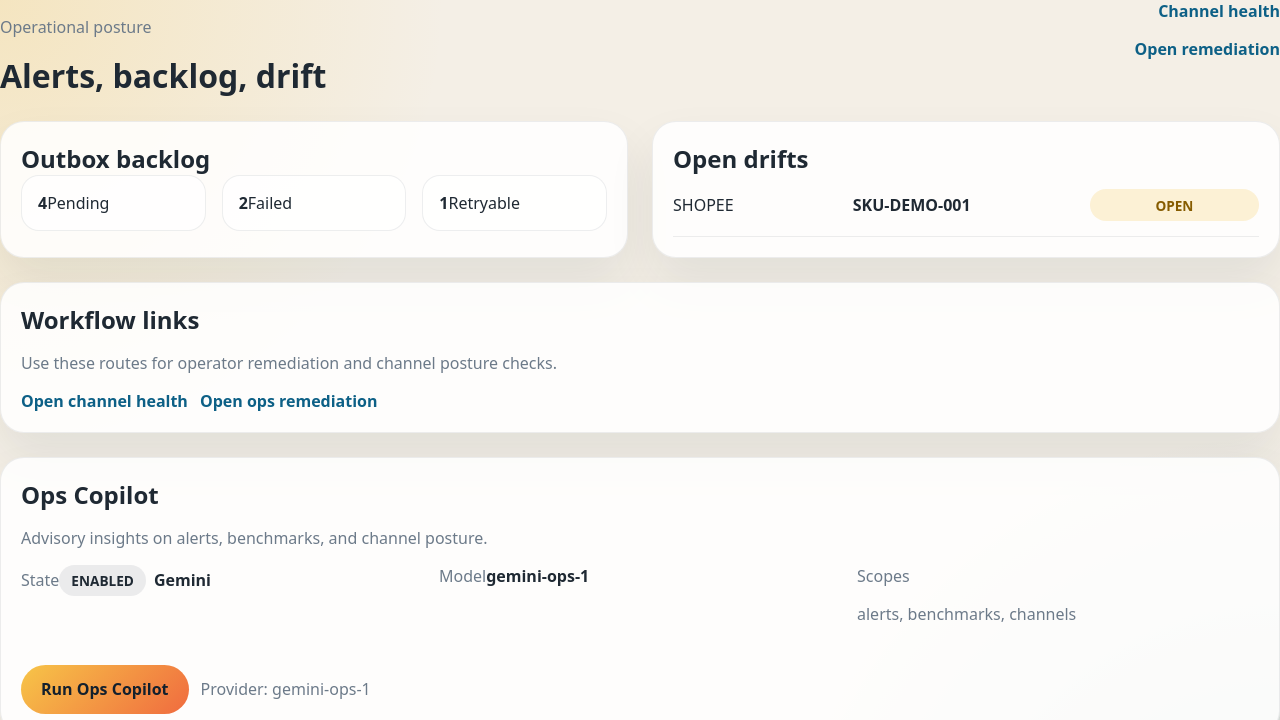
Test case: OpsPage › runs Ops Copilot analysis and renders findings
Check: the heading "Ops Copilot" is shown, box [21, 478, 159, 511]
Click the button "Run Ops Copilot".
click(105, 689)  # box [21, 665, 189, 714]
(page scrolled)
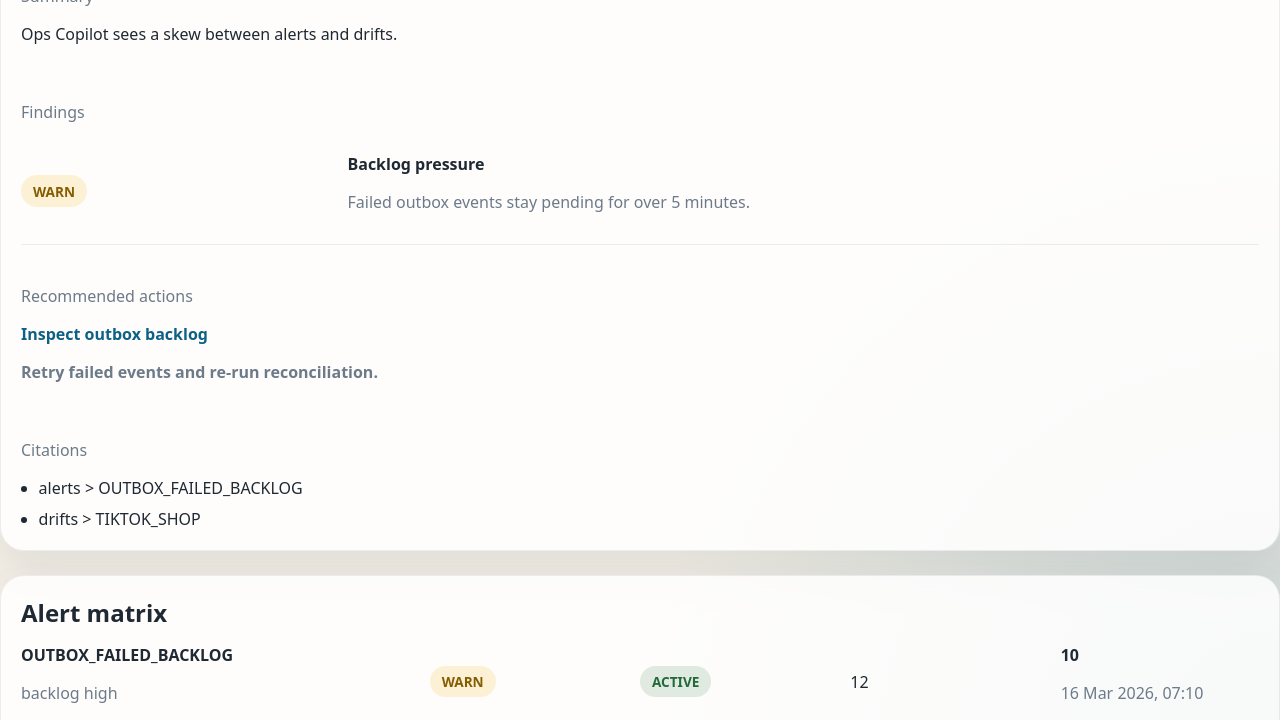
Check: the text "Ops Copilot sees a skew between alerts and drifts." is shown, box [21, 23, 397, 45]
